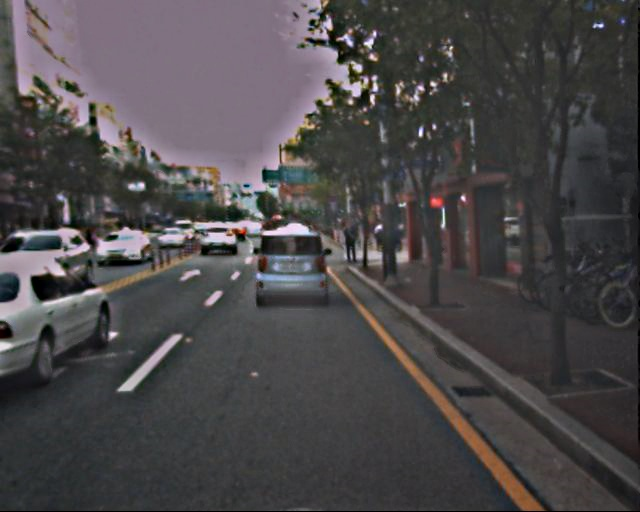person: (341, 218, 361, 267)
